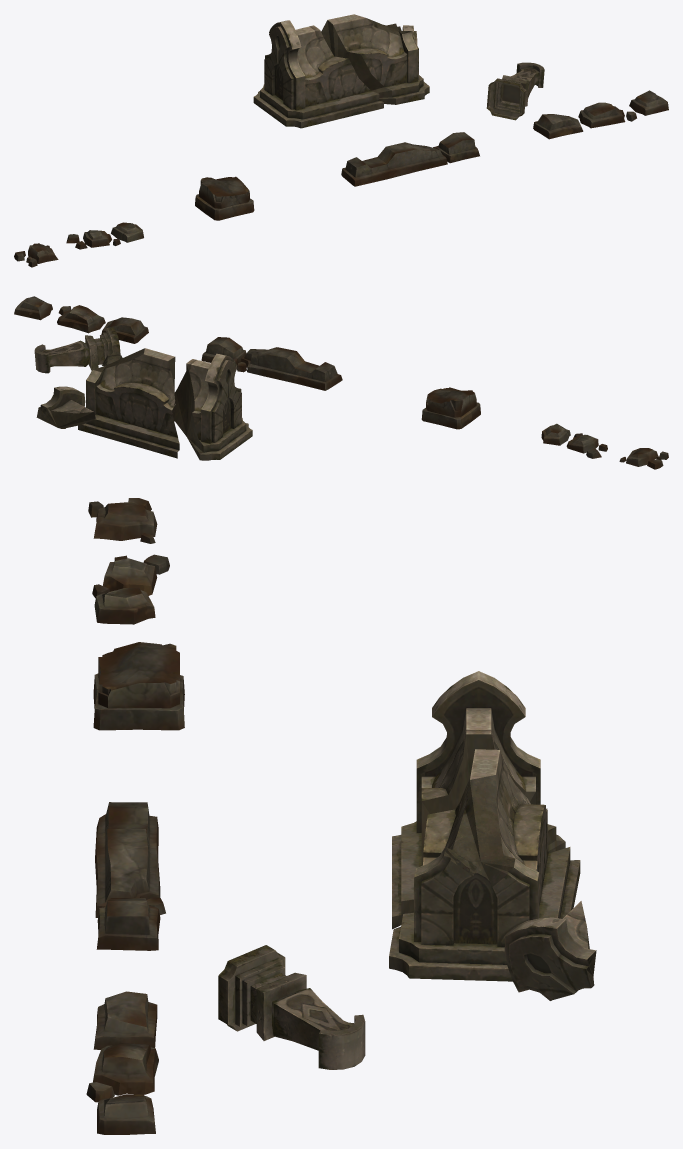
The model's file is mesh_raid3_prop2.FBX.
The picture shows the model from 3 angles, top to bottom: view 1: azimuth 30°, elevation 25°; view 2: azimuth 150°, elevation 25°; view 3: azimuth 270°, elevation 25°; orthographic projection. The views are drawn at different scales.
Visible parts, largest first — view 1: mesh_raid3_prop2; view 2: mesh_raid3_prop2; view 3: mesh_raid3_prop2.
Part boxes in pixels (<box>): mesh_raid3_prop2: <box>14,14,668,267</box>; mesh_raid3_prop2: <box>14,296,668,469</box>; mesh_raid3_prop2: <box>86,498,596,1134</box>.
Bounding box in the file's own units: 20.08 × 2.81 × 6.89.
